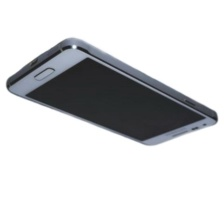phone: (3, 35, 219, 149)
